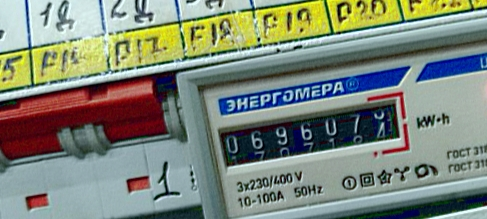0: (323, 113, 341, 137), (225, 132, 242, 154)
4: (374, 118, 390, 141)
6: (249, 127, 266, 150), (298, 119, 315, 141)
7: (348, 111, 366, 134)
9: (274, 123, 290, 146)
screen: (205, 87, 418, 178)
